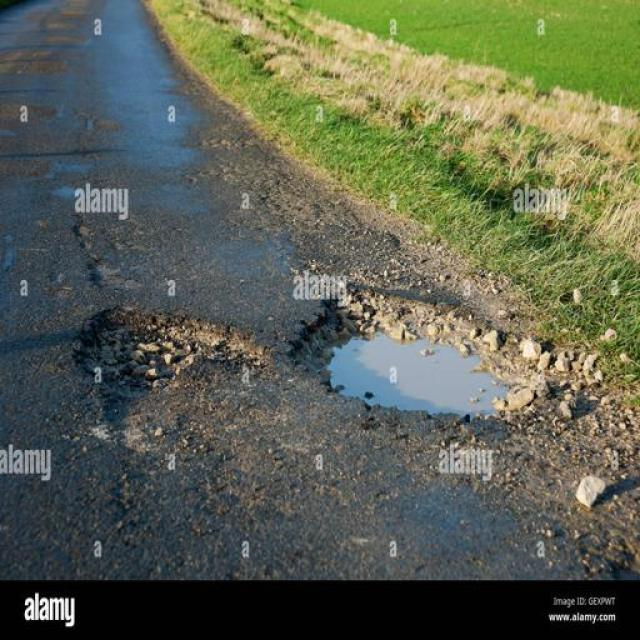puddle: (322, 317, 500, 418)
